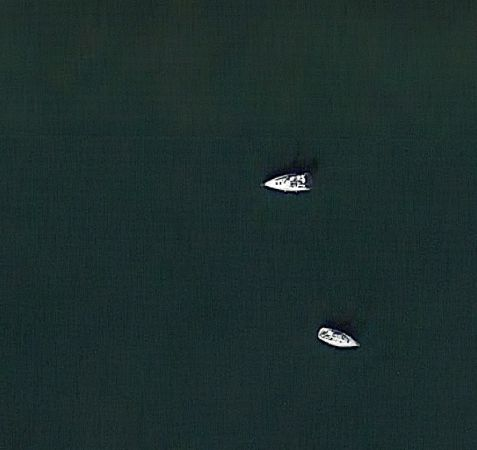boat: (257, 169, 314, 194), (314, 325, 360, 349)
